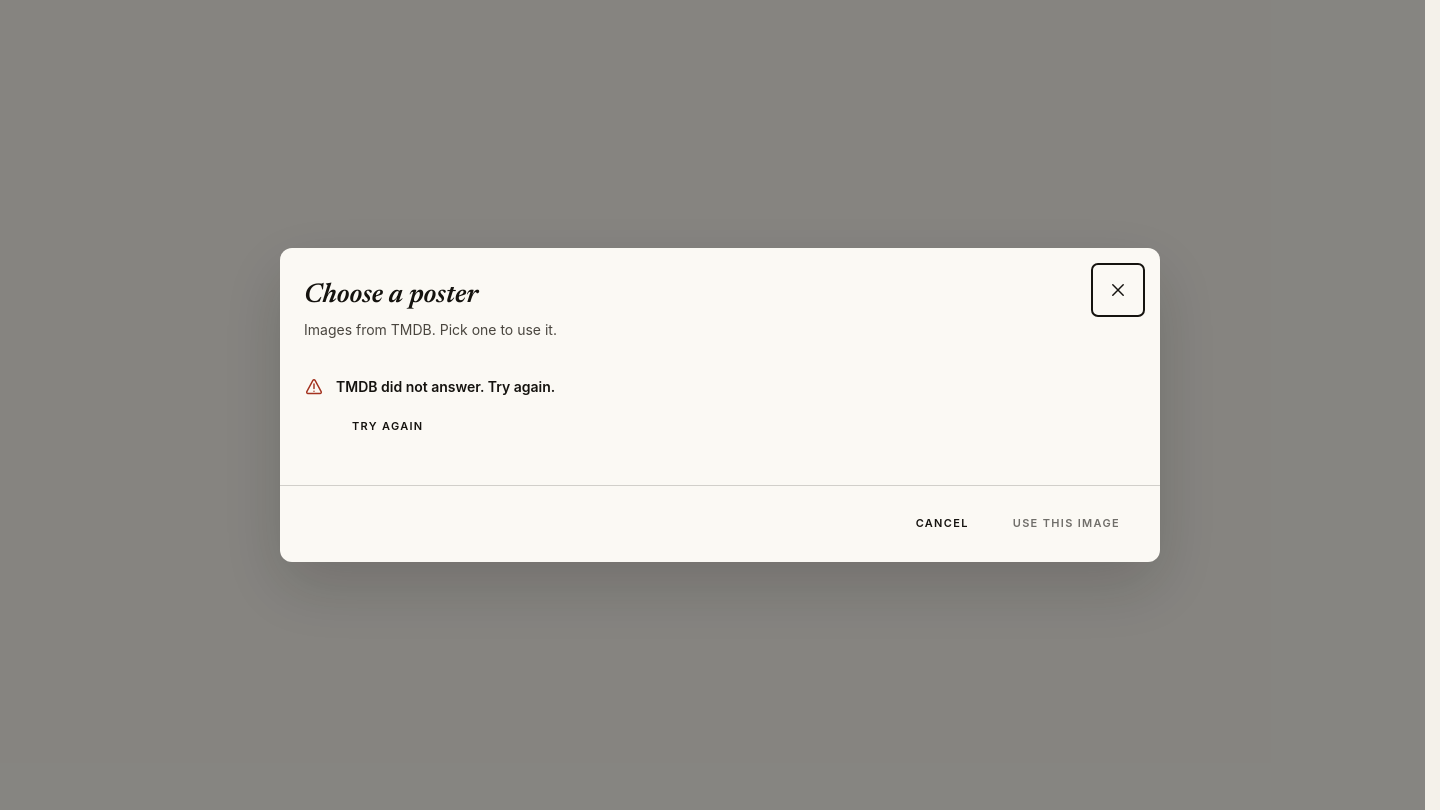
Scenario: CandidateDialog › Try again reloads
Step 1. Click the button "Try again" → (388, 427), box [336,405,440,449]
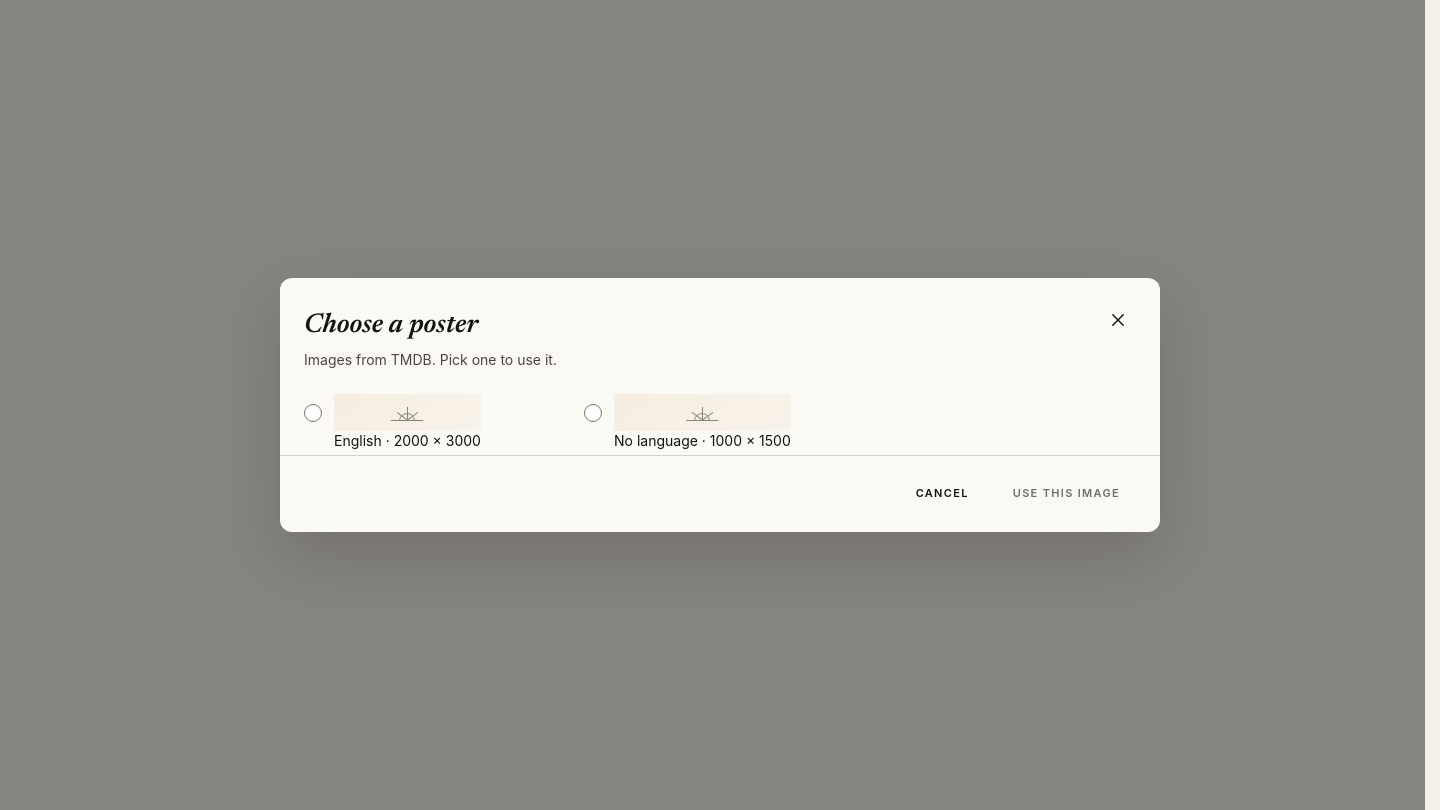
Now the element showing "English · 2000 × 3000 No language · 1000 × 1500" is shown, box [304,394,791,449]
